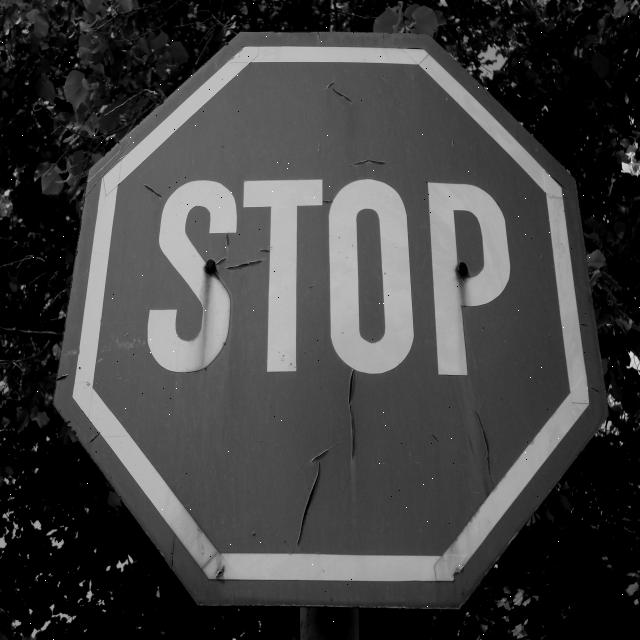Stop-sign: (28, 0, 620, 612)
